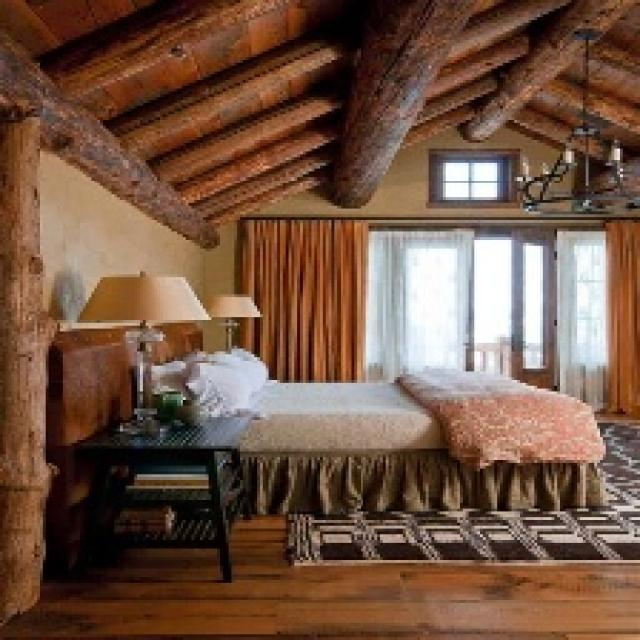Bed: (140, 343, 606, 514)
